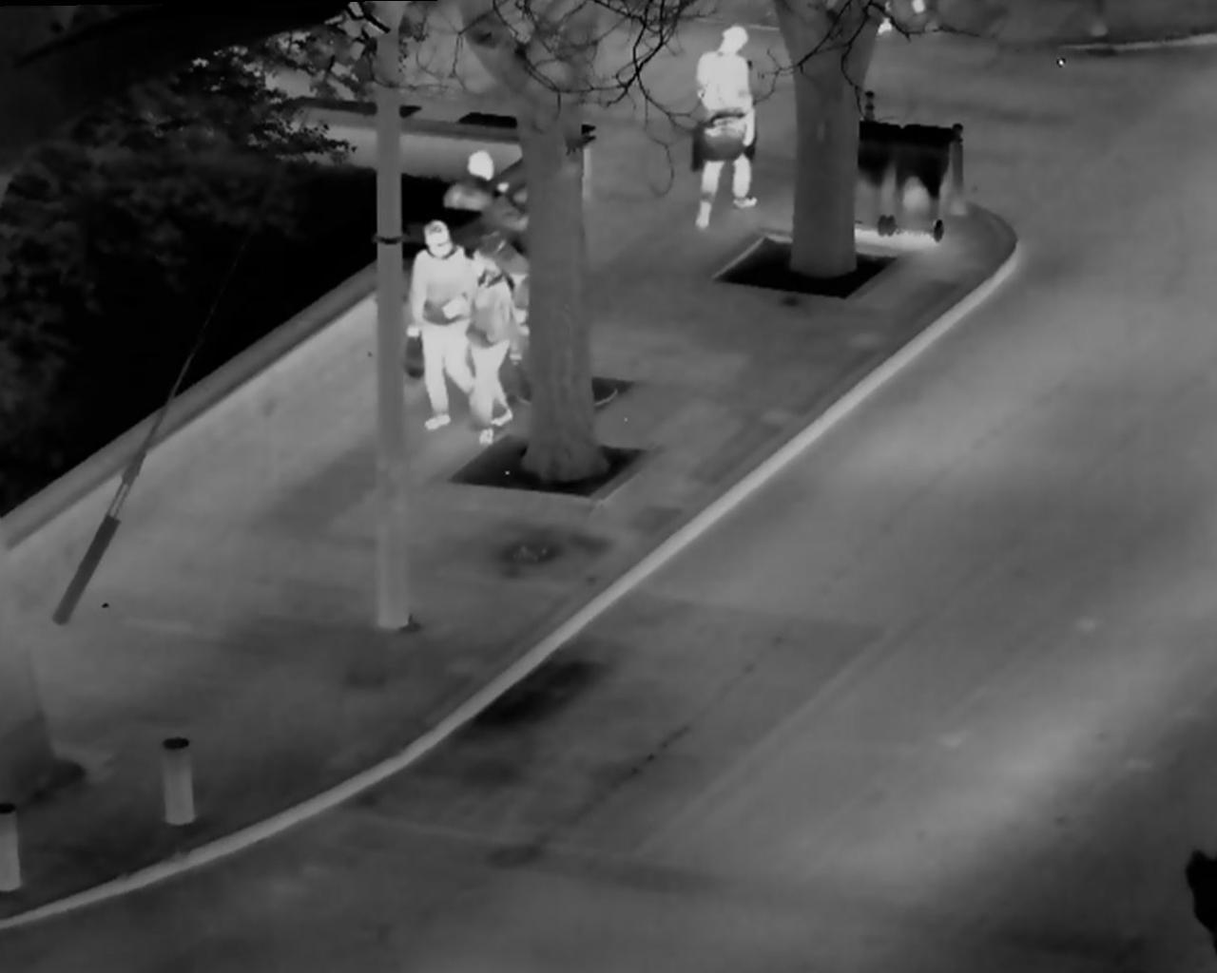person: (684, 20, 760, 238), (399, 224, 475, 421), (460, 238, 520, 448), (438, 136, 516, 238)
